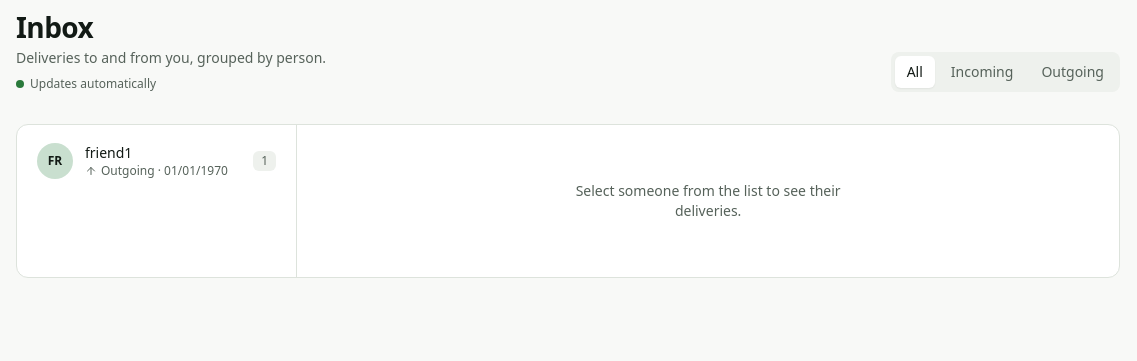
InboxPage › shows the sender-perspective status label for an outgoing drop, not the recipient-perspective one
Click the text "friend1" at (109, 152), box [85,143,132,162]
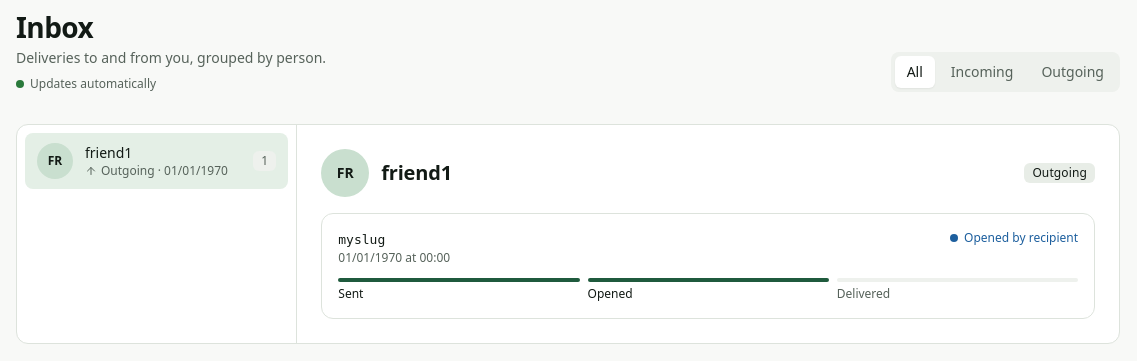
Result: the text "Opened by recipient" is shown at [950,230,1078,246]
